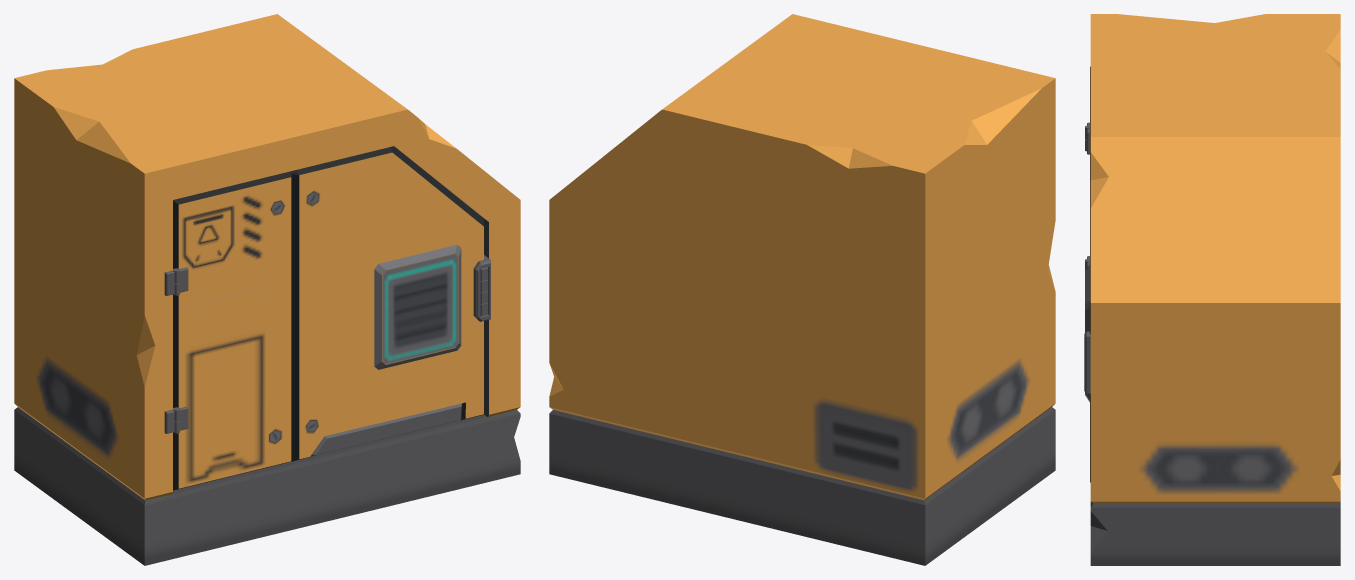
The model's file is SM_Prop_Electrical_Box_01.fbx.
3 renders of one model, left to right at view 1: azimuth 30°, elevation 25°; view 2: azimuth 150°, elevation 25°; view 3: azimuth 270°, elevation 25°, orthographic. The views are drawn at different scales.
Visible parts, largest first — view 1: SM_Prop_Electrical_Box_01; view 2: SM_Prop_Electrical_Box_01; view 3: SM_Prop_Electrical_Box_01.
Part boxes in pixels (<box>): SM_Prop_Electrical_Box_01: <box>14,14,520,565</box>; SM_Prop_Electrical_Box_01: <box>549,14,1055,565</box>; SM_Prop_Electrical_Box_01: <box>1084,14,1340,565</box>.
Bounding box in the file's own units: 125 × 125 × 77.09.
